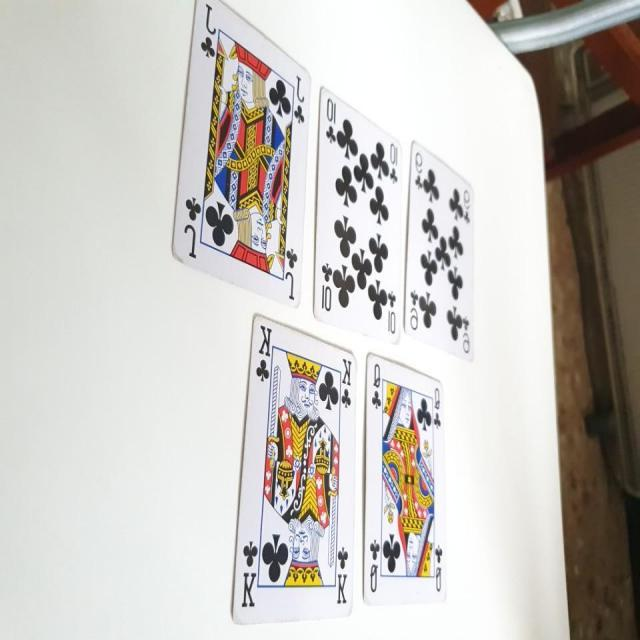10 of clubs: (309, 80, 405, 343)
9 of clubs: (402, 137, 476, 366)
jack of clubs: (170, 0, 313, 308)
king of clubs: (228, 311, 358, 629)
queen of clubs: (361, 351, 448, 604)
